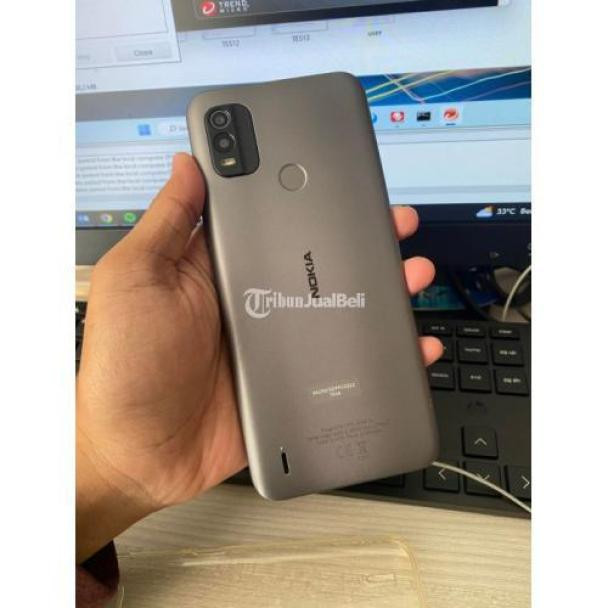Handphone: (186, 70, 449, 511)
